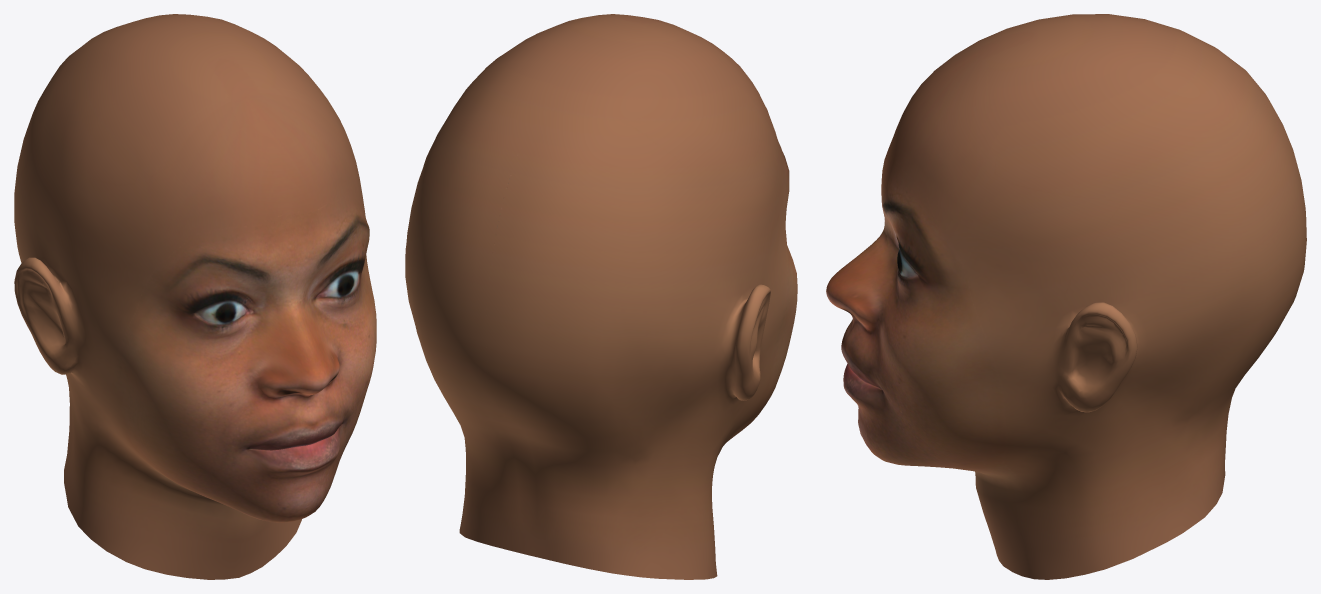
Rendered from v332_obj_ModifierBrowRaiserOuter(AU02).obj.
The picture shows the model from 3 angles, left to right: view 1: azimuth 30°, elevation 25°; view 2: azimuth 150°, elevation 25°; view 3: azimuth 270°, elevation 25°; orthographic projection. The views are drawn at different scales.
Parts seen in each view (by area): view 1: HeadHires; view 2: HeadHires; view 3: HeadHires.
Part boxes in pixels (x1,y1,x2,y2): HeadHires: [14, 14, 376, 579]; HeadHires: [405, 14, 797, 579]; HeadHires: [826, 14, 1306, 579].
Size of the model in its own units: 187 by 282 by 233.
